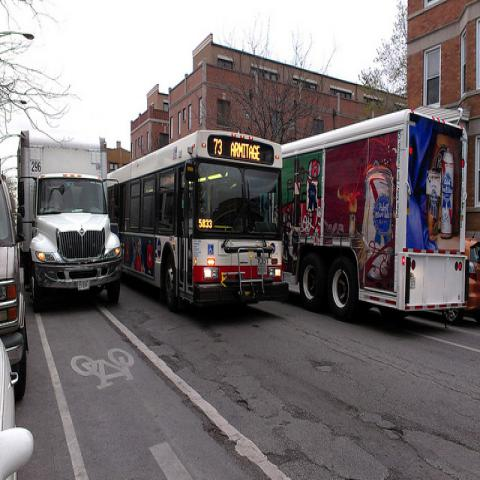bus: (281, 108, 467, 318), (107, 133, 287, 303)
car: (0, 175, 29, 402), (0, 339, 34, 474), (441, 235, 479, 330)
truck: (282, 108, 469, 319), (15, 131, 122, 317), (0, 174, 31, 404)
